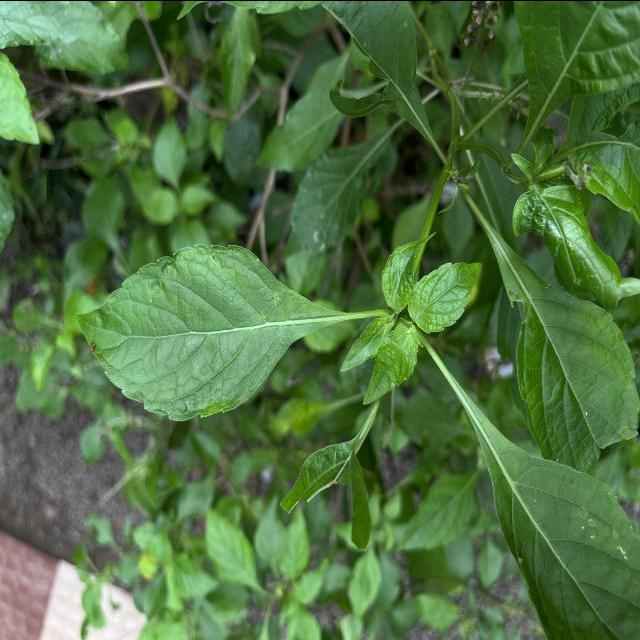Ocimum gratissimum: (71, 237, 352, 423), (464, 411, 640, 640)
